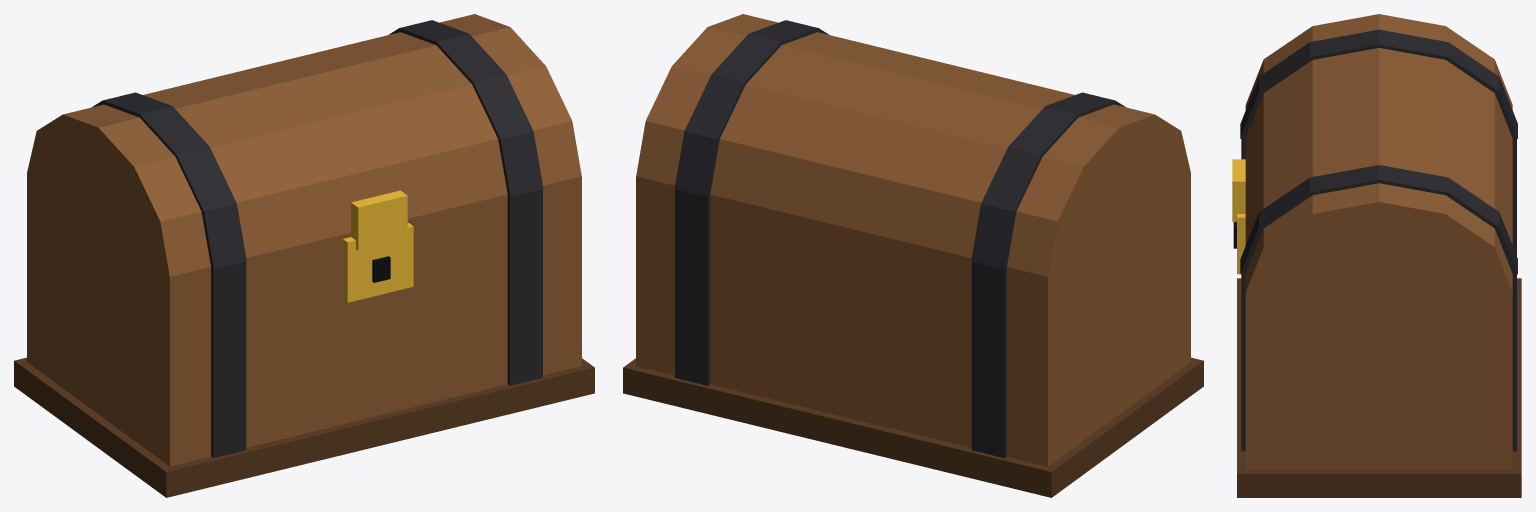
The model's file is Chest.fbx.
3 views of the same model, side by side, from view 1: azimuth 30°, elevation 25°; view 2: azimuth 150°, elevation 25°; view 3: azimuth 270°, elevation 25° (orthographic). The views are drawn at different scales.
Visible parts, largest first — view 1: Chest_Base, Chest_Lid; view 2: Chest_Base, Chest_Lid; view 3: Chest_Lid, Chest_Base.
Boxes of the visible parts, box(x1,y1,x2,y2) form: Chest_Base: box(14, 172, 594, 497); Chest_Lid: box(27, 14, 581, 276); Chest_Base: box(623, 172, 1203, 497); Chest_Lid: box(636, 14, 1190, 276); Chest_Lid: box(1232, 14, 1517, 292); Chest_Base: box(1233, 136, 1521, 497).
Size of the model in its own units: 1.04 by 0.738 by 0.65.
